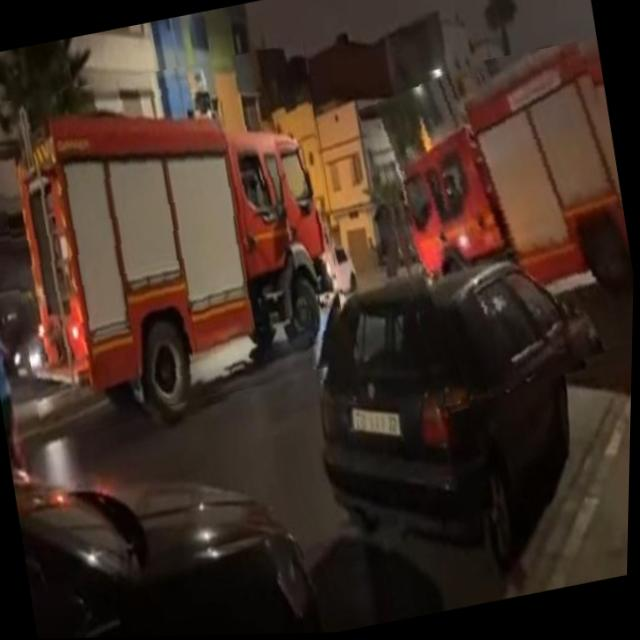Protection Civile: (0, 42, 362, 439), (359, 39, 639, 416)
